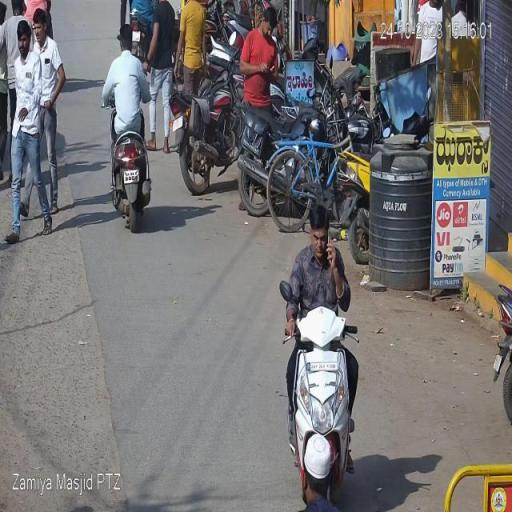using mobile: (323, 218, 338, 268)
